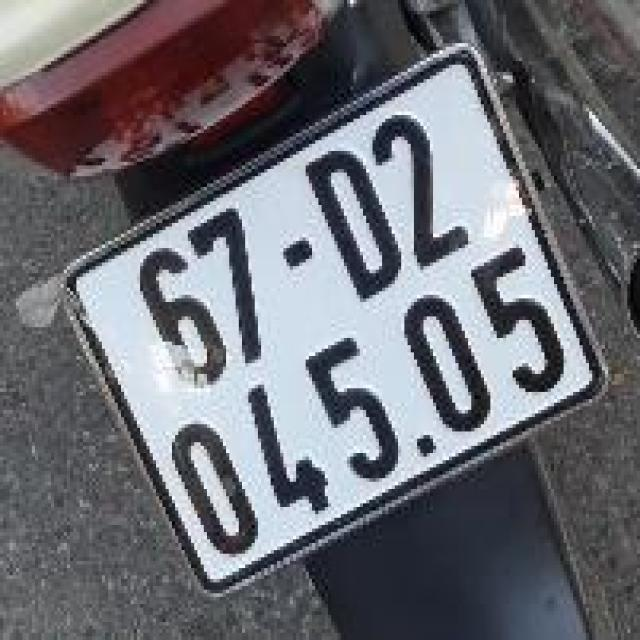0: (384, 282, 506, 451), (158, 410, 271, 572)
2: (357, 97, 486, 284)
4: (223, 367, 344, 538)
5: (456, 230, 588, 412), (292, 322, 417, 498)
6: (125, 237, 239, 404)
7: (179, 198, 285, 379)
D: (290, 133, 413, 315)
